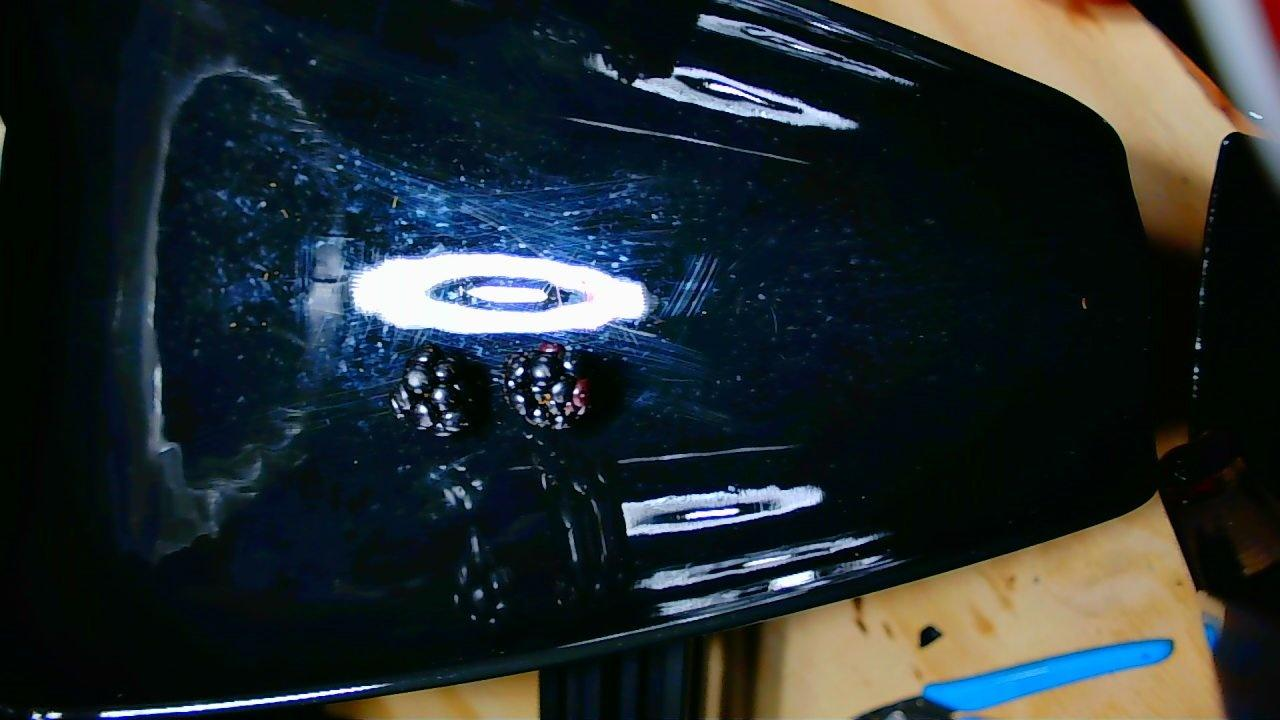berry: (502, 342, 590, 428), (389, 345, 472, 436)
